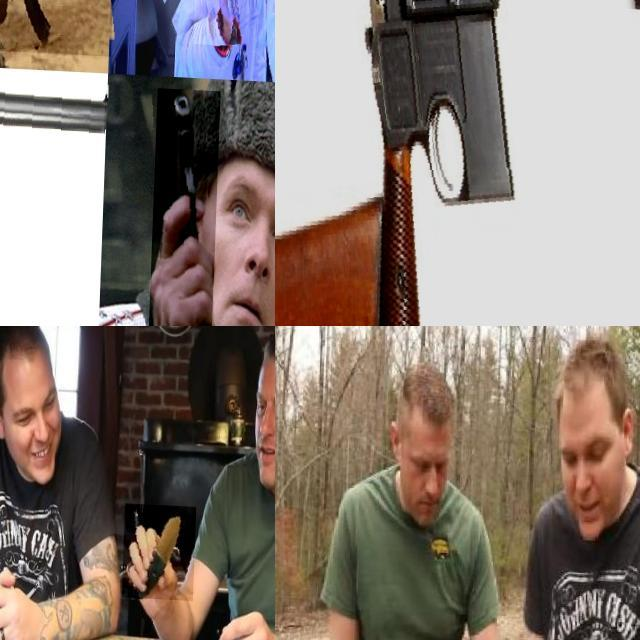-: (125, 500, 198, 597)
gun-knife-thesis - v11 Yolov5 augmented: (275, 0, 640, 326), (0, 59, 154, 326), (152, 84, 223, 326), (0, 0, 116, 69), (195, 0, 243, 85)
